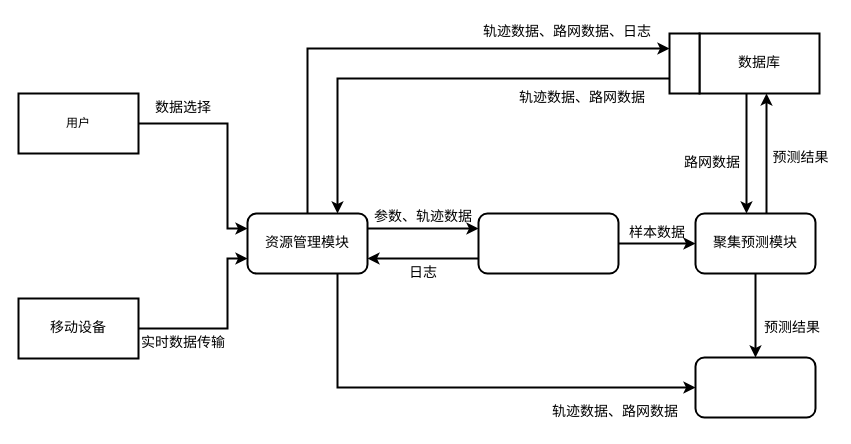
Some shapes in this 851 by 444 pixel diagram are drawn without their labels. Each missing label, with the centre of its shape:
前端交互模块: the point at 755,387
数据处理与传输模块: the point at 548,243
